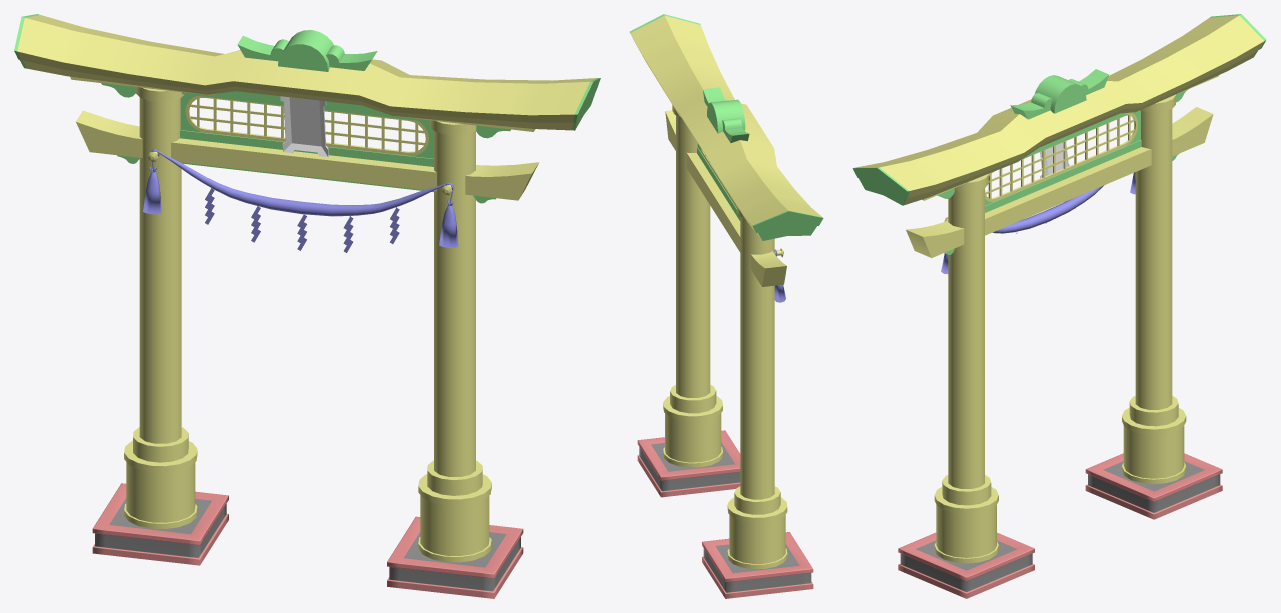
Rendered from SM_ENV_KNVLLG03_AreaE_ToriiA.gltf.
The picture shows the model from 3 angles, left to right: view 1: azimuth 30°, elevation 25°; view 2: azimuth 150°, elevation 25°; view 3: azimuth 270°, elevation 25°; orthographic projection. The views are drawn at different scales.
Parts seen in each view (by area): view 1: SM_ENV_KNVLLG03_AreaE_ToriiA; view 2: SM_ENV_KNVLLG03_AreaE_ToriiA; view 3: SM_ENV_KNVLLG03_AreaE_ToriiA.
Part boxes in pixels (x1=…): SM_ENV_KNVLLG03_AreaE_ToriiA: x1=14, y1=14, x2=600, y2=598; SM_ENV_KNVLLG03_AreaE_ToriiA: x1=629, y1=14, x2=823, y2=598; SM_ENV_KNVLLG03_AreaE_ToriiA: x1=852, y1=14, x2=1266, y2=598.
Size of the model in its own units: 10.95 by 13.11 by 10.95.
